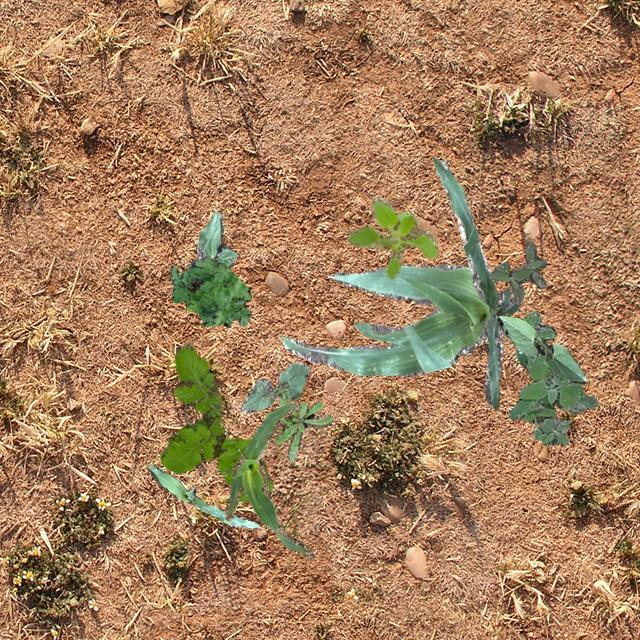crop: (282, 156, 518, 408), (224, 402, 312, 558), (146, 463, 260, 528), (496, 314, 586, 382), (240, 361, 310, 412), (196, 210, 237, 266)
weed: (160, 340, 272, 502), (508, 310, 596, 444), (348, 195, 437, 278), (168, 256, 250, 326), (264, 396, 332, 460), (488, 240, 546, 304)
